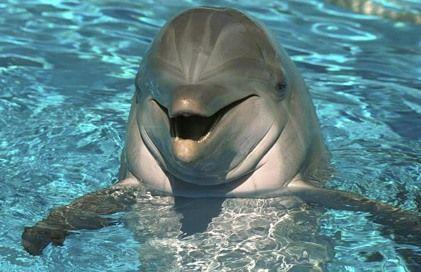fish: (23, 3, 420, 250)
